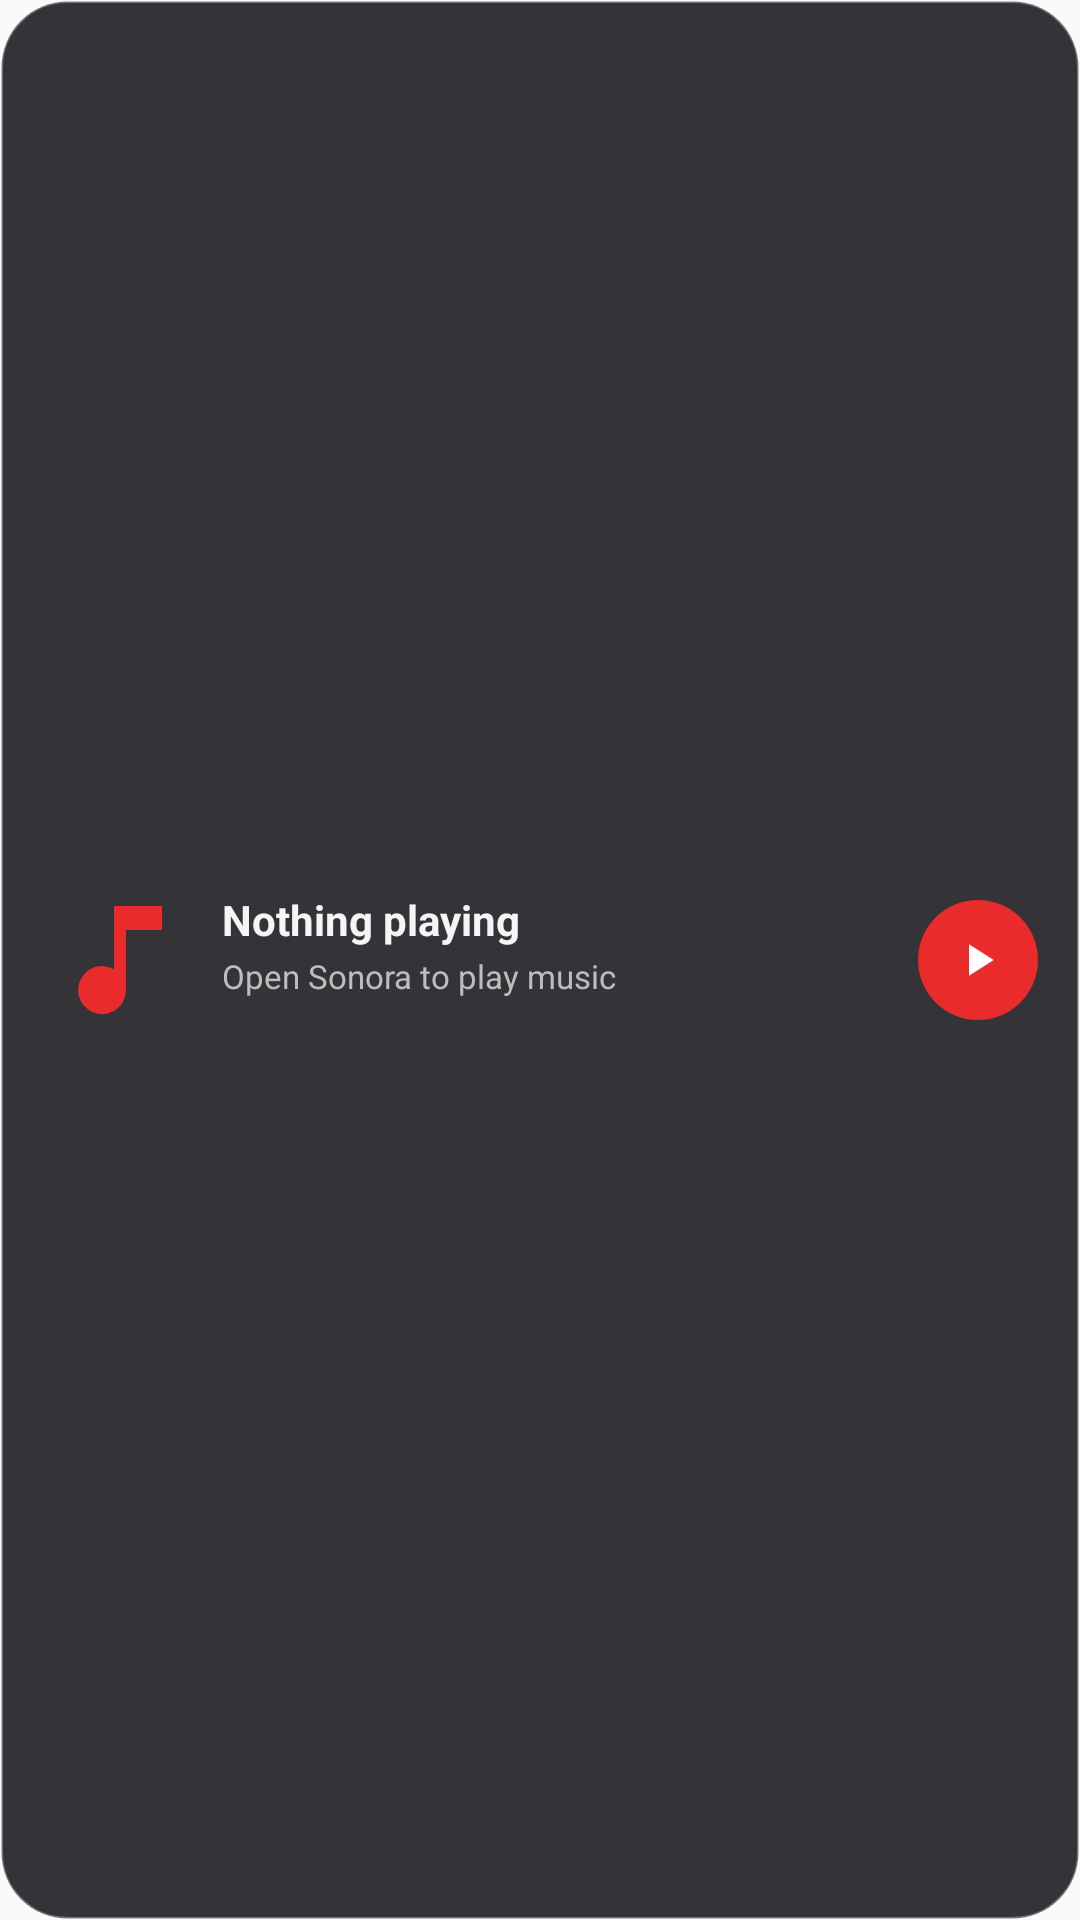

Icons on this 1080 x 1920 Android screen, each with its box as (x1, y1, x2, y2):
Album artwork: (78, 906, 162, 1014)
